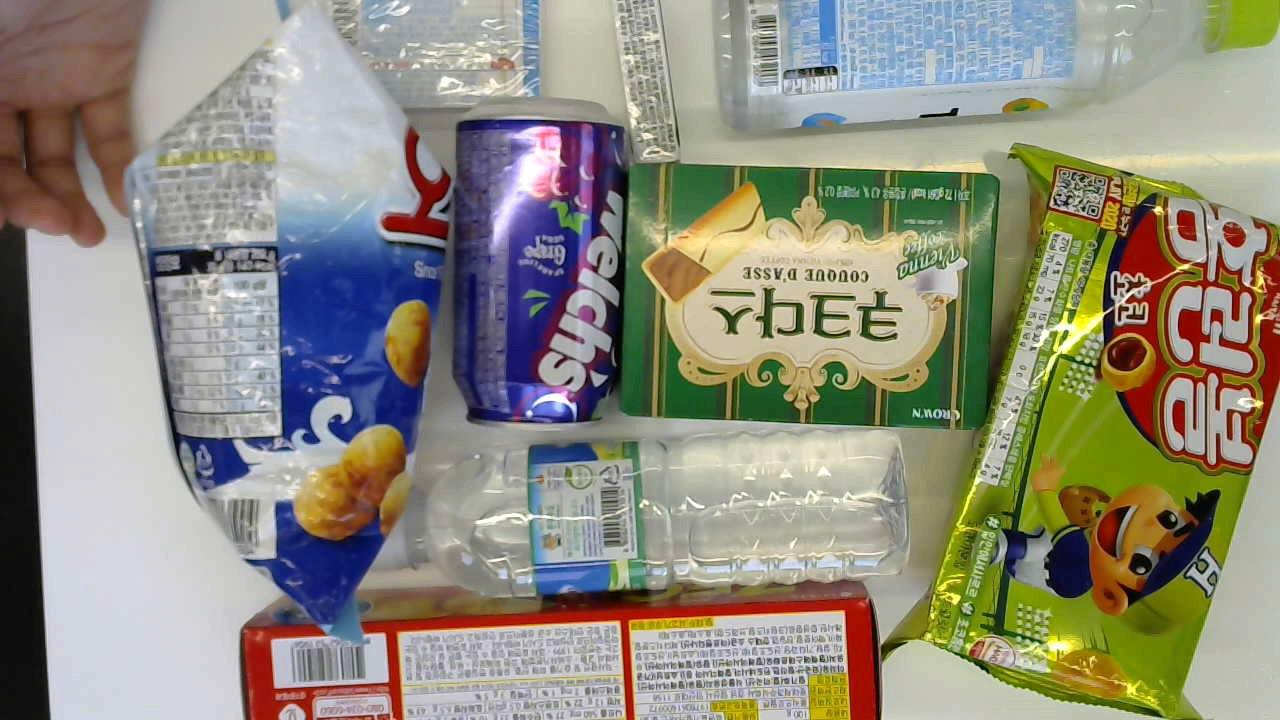ID_gum: (271, 0, 550, 102)
couque_coffee: (620, 165, 1000, 434)
homerunball: (917, 144, 1280, 720)
samdasu: (399, 427, 910, 607)
spearmint: (609, 0, 684, 165)
squid_peanut: (135, 4, 447, 634)
toreta: (713, 0, 1279, 140)
welchs: (454, 99, 627, 435)
zec: (238, 578, 892, 720)
